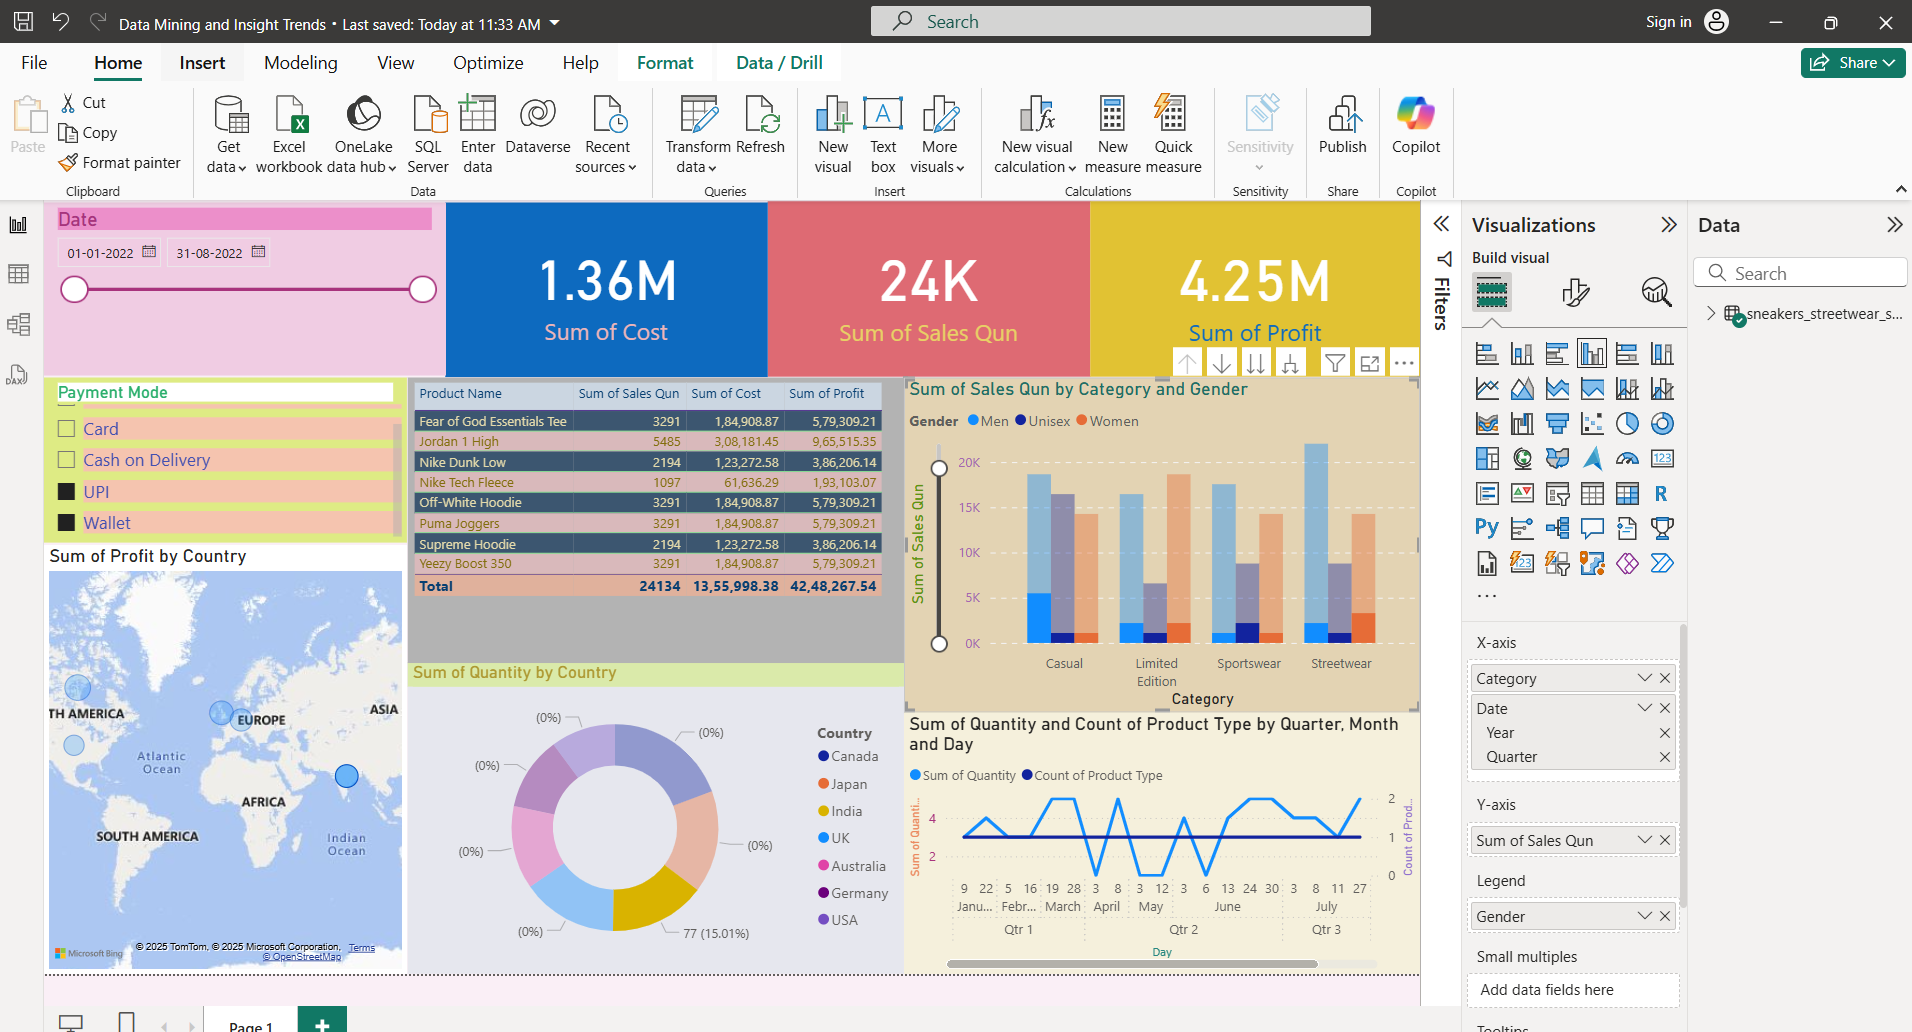

What the dashboard file says about the page in this screenshot:
{"tool":"powerbi","page":{"name":"Page 1","canvas":[1280,720],"ordinal":0},"visuals":[{"type":"card","fields":{"Values":["Sum(sneakers_streetwear_sales_data.Sum of Sales Quantity)"]},"box":[673.3,1.2,299.8,163.4],"z":0},{"type":"card","fields":{"Values":["Sum(sneakers_streetwear_sales_data.Sum of Cost Unit Price)"]},"box":[373.5,2.5,299.8,162.2],"z":1000},{"type":"card","fields":{"Values":["Sum(sneakers_streetwear_sales_data.Sum of Profit Amount)"]},"box":[973.1,1.2,307.2,163.4],"z":2000},{"type":"clusteredColumnChart","fields":{"Category":["sneakers_streetwear_sales_data.Category","sneakers_streetwear_sales_data.Date.Variation.Date Hierarchy.Year","sneakers_streetwear_sales_data.Date.Variation.Date Hierarchy.Quarter"],"Y":["Sum(sneakers_streetwear_sales_data.Sales Qun)"],"Series":["sneakers_streetwear_sales_data.Gender"]},"box":[800,165.1,480.2,311.6],"z":3000},{"type":"lineChart","fields":{"Category":["sneakers_streetwear_sales_data.Date.Variation.Date Hierarchy.Quarter","sneakers_streetwear_sales_data.Date.Variation.Date Hierarchy.Month","sneakers_streetwear_sales_data.Date.Variation.Date Hierarchy.Day"],"Y2":["CountNonNull(sneakers_streetwear_sales_data.Product Type)"],"Y":["Sum(sneakers_streetwear_sales_data.Quantity)"]},"box":[799.8,476.7,480.4,243.3],"z":4000},{"type":"donutChart","fields":{"Y":["Sum(sneakers_streetwear_sales_data.Quantity)"],"Category":["sneakers_streetwear_sales_data.Country"]},"box":[337.9,430,462,290],"z":5000},{"type":"tableEx","fields":{"Values":["sneakers_streetwear_sales_data.Product Name","Sum(sneakers_streetwear_sales_data.Sales Quantity)","Sum(sneakers_streetwear_sales_data.Cost Unit Price)","Sum(sneakers_streetwear_sales_data.Profit Amount)"]},"box":[337.9,164.6,462,265.4],"z":6000},{"type":"map","fields":{"Category":["sneakers_streetwear_sales_data.Country"],"Size":["Sum(sneakers_streetwear_sales_data.Profit)"]},"box":[0,320.7,337.9,399.3],"z":7000},{"type":"slicer","fields":{"Values":["sneakers_streetwear_sales_data.Payment Mode"]},"box":[0,164.6,337.9,153.6],"z":8000},{"type":"slicer","fields":{"Values":["sneakers_streetwear_sales_data.Date"]},"box":[0,2.5,373.5,161],"z":9000}]}

Visuals, with their boxes on the page's 1280x720 design canvas (x1, y1, x2, y2). These are canvas units, not pixel positions in the 1912x1032 screenshot, which may show the page scaled, cropped or inside an application window:
card - Sum(sneakers_streetwear_sales_data.Sum of Sales Quantity): locate(673, 1, 973, 165)
card - Sum(sneakers_streetwear_sales_data.Sum of Cost Unit Price): locate(374, 2, 673, 165)
card - Sum(sneakers_streetwear_sales_data.Sum of Profit Amount): locate(973, 1, 1280, 165)
clusteredColumnChart - sneakers_streetwear_sales_data.Category x sneakers_streetwear_sales_data.Date.Variation.Date Hierarchy.Year: locate(800, 165, 1280, 477)
lineChart - sneakers_streetwear_sales_data.Date.Variation.Date Hierarchy.Quarter x sneakers_streetwear_sales_data.Date.Variation.Date Hierarchy.Month: locate(800, 477, 1280, 720)
donutChart - Sum(sneakers_streetwear_sales_data.Quantity) x sneakers_streetwear_sales_data.Country: locate(338, 430, 800, 720)
tableEx - sneakers_streetwear_sales_data.Product Name x Sum(sneakers_streetwear_sales_data.Sales Quantity): locate(338, 165, 800, 430)
map - sneakers_streetwear_sales_data.Country x Sum(sneakers_streetwear_sales_data.Profit): locate(0, 321, 338, 720)
slicer - sneakers_streetwear_sales_data.Payment Mode: locate(0, 165, 338, 318)
slicer - sneakers_streetwear_sales_data.Date: locate(0, 2, 374, 164)
